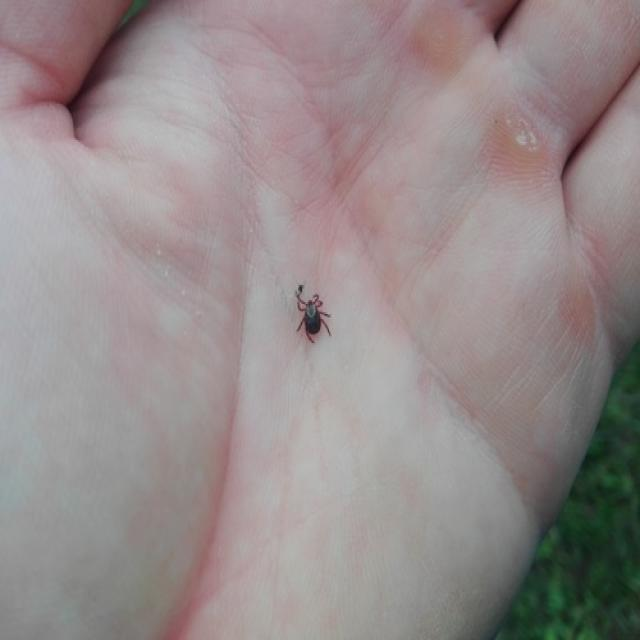Dermacentor Reticulatus-F: (292, 282, 332, 345)
